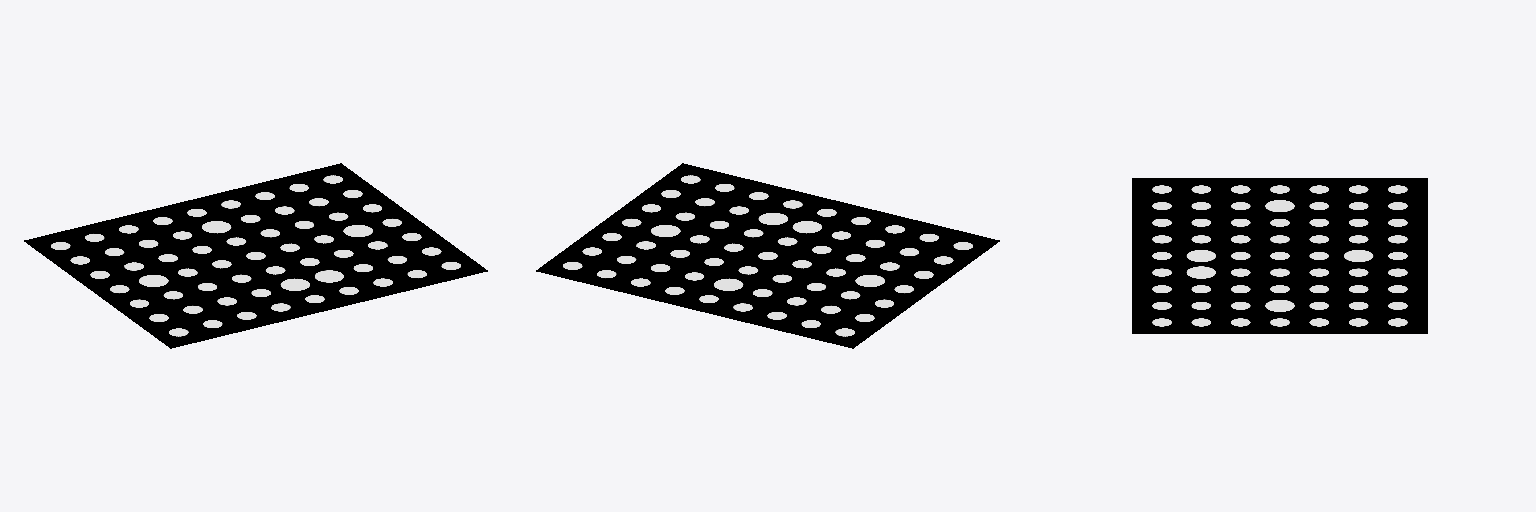
3 renders of one model, left to right at view 1: azimuth 30°, elevation 25°; view 2: azimuth 150°, elevation 25°; view 3: azimuth 270°, elevation 25°, orthographic.
Visible parts, largest first — view 1: Plane; view 2: Plane; view 3: Plane.
Part boxes in pixels (left/top/right/bottom): Plane: left=24, top=163, right=487, bottom=348; Plane: left=536, top=163, right=999, bottom=348; Plane: left=1132, top=178, right=1427, bottom=333.
Size of the model in its own units: 0.56 by 0 by 0.45.
Materials: 1 (1 with a texture image).